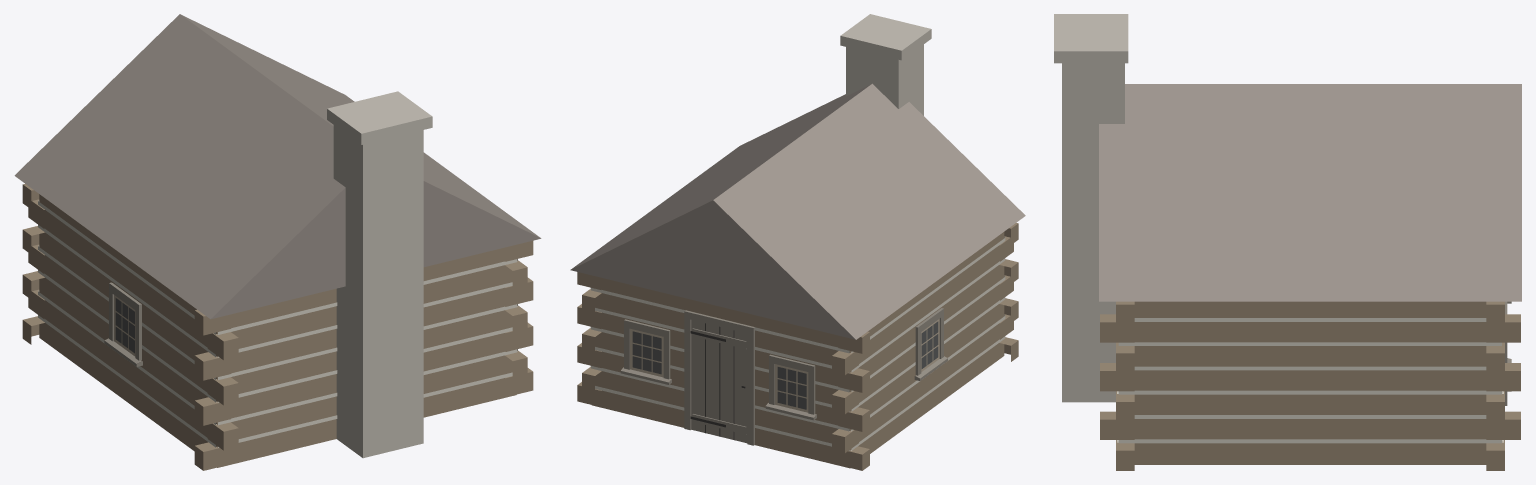
The model's file is forks_house_clark_1812__clark_1812.glb.
The picture shows the model from 3 angles, left to right: view 1: azimuth 30°, elevation 25°; view 2: azimuth 150°, elevation 25°; view 3: azimuth 270°, elevation 25°; orthographic projection. The views are drawn at different scales.
Parts seen in each view (by area): view 1: forks_house_clark_1812__clark_1812; view 2: forks_house_clark_1812__clark_1812; view 3: forks_house_clark_1812__clark_1812.
Part boxes in pixels (x1,y1,x2,y2): forks_house_clark_1812__clark_1812: [14, 14, 541, 470]; forks_house_clark_1812__clark_1812: [570, 14, 1025, 470]; forks_house_clark_1812__clark_1812: [1054, 14, 1521, 470].
Size of the model in its own units: 5.22 by 4.95 by 5.93.
